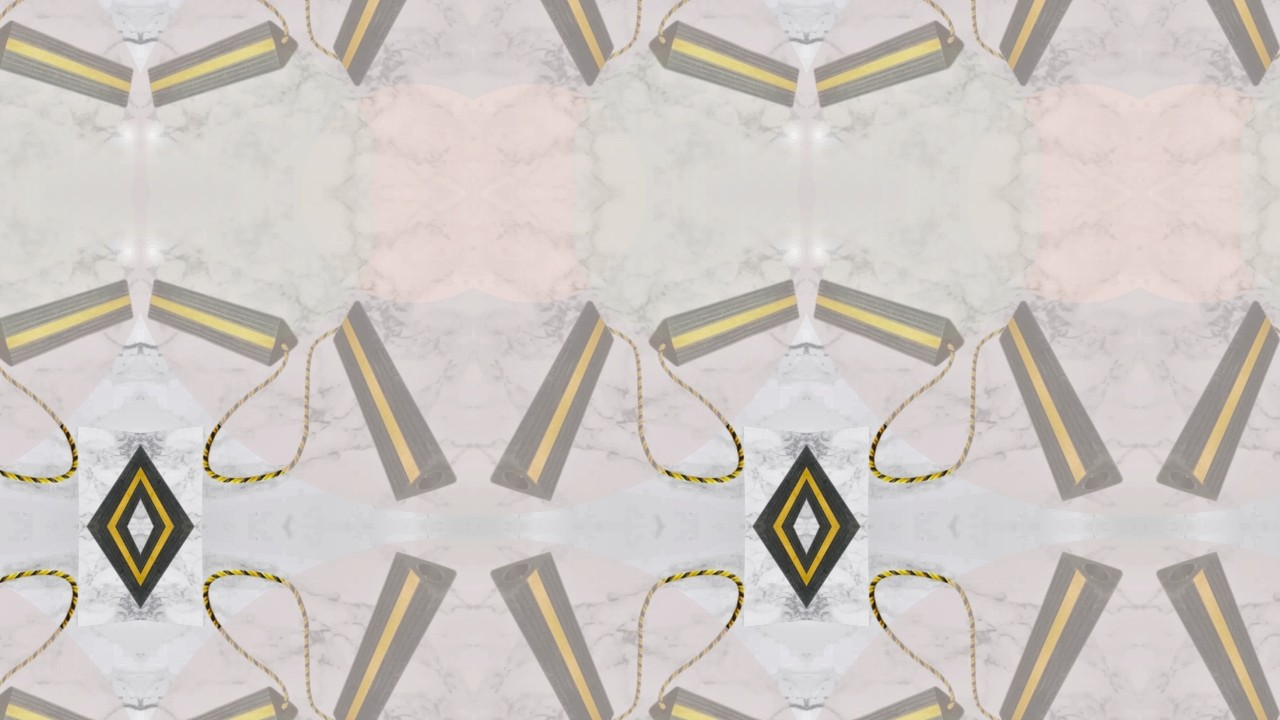chock: (473, 287, 621, 513), (326, 287, 473, 513), (993, 287, 1140, 513), (1140, 287, 1280, 513), (473, 540, 621, 720), (326, 540, 473, 720), (993, 540, 1140, 720), (1140, 540, 1280, 720), (646, 8, 800, 122), (813, 8, 967, 122), (646, 265, 800, 379), (813, 265, 967, 379), (147, 8, 300, 122), (147, 265, 300, 379), (0, 8, 133, 122), (0, 265, 133, 379), (473, 0, 621, 100), (326, 0, 473, 100), (993, 0, 1140, 100), (1140, 0, 1280, 100), (646, 674, 800, 720), (813, 674, 967, 720), (147, 674, 300, 720), (77, 426, 140, 527), (140, 426, 203, 527), (744, 426, 807, 527), (77, 527, 140, 627), (140, 527, 203, 627), (744, 527, 807, 627), (807, 426, 869, 527), (807, 527, 869, 627), (0, 674, 133, 720)
